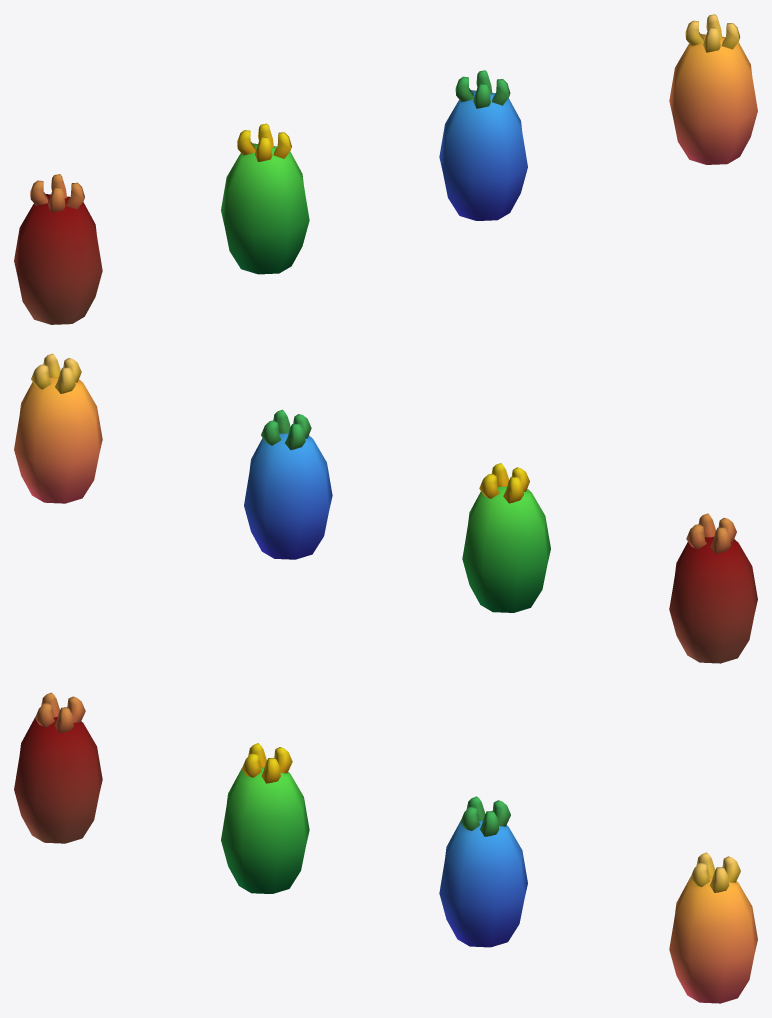
File: Coral Reef Set4.glb
3 views of the same model, one above another, from view 1: azimuth 30°, elevation 25°; view 2: azimuth 150°, elevation 25°; view 3: azimuth 330°, elevation 25° (orthographic).
Parts seen in each view (by area): view 1: D_CoralReef, D_CoralReef.001, D_CoralReef.003, D_CoralReef.002; view 2: D_CoralReef, D_CoralReef.002, D_CoralReef.003, D_CoralReef.001; view 3: D_CoralReef.003, D_CoralReef, D_CoralReef.002, D_CoralReef.001.
Part boxes in pixels (bbox=[...]): D_CoralReef: bbox=[14, 174, 102, 324]; D_CoralReef.001: bbox=[221, 123, 309, 274]; D_CoralReef.003: bbox=[669, 14, 757, 164]; D_CoralReef.002: bbox=[439, 70, 527, 220]; D_CoralReef: bbox=[669, 513, 757, 663]; D_CoralReef.002: bbox=[244, 409, 332, 559]; D_CoralReef.003: bbox=[14, 353, 102, 503]; D_CoralReef.001: bbox=[462, 463, 550, 612]; D_CoralReef.003: bbox=[669, 852, 757, 1003]; D_CoralReef: bbox=[14, 692, 102, 843]; D_CoralReef.002: bbox=[439, 796, 527, 947]; D_CoralReef.001: bbox=[221, 743, 309, 893].
Bounding box in the file's own units: 6.41 × 1.09 × 0.7101.
1 material, 1 textured.
